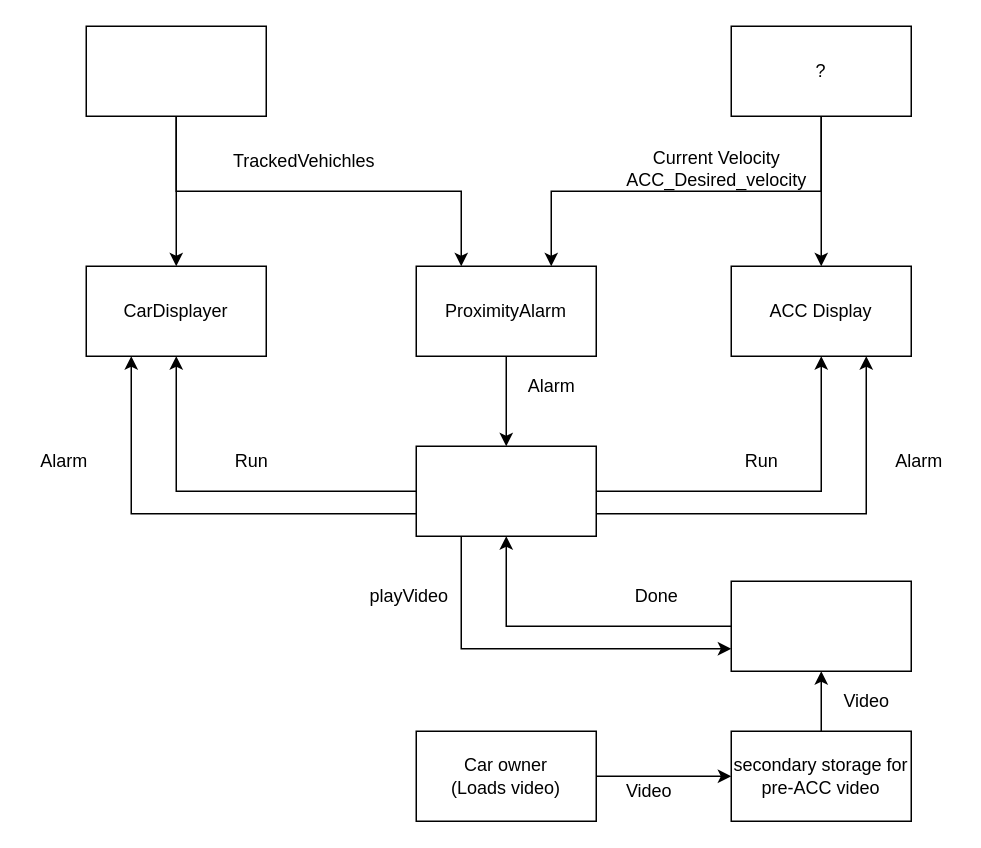
This 981x848 diagram has some shape labels left out. The centre of each missing label's shape, as x and y in pixels:
HMI Ctl: the point at 505,490
ROS: the point at 175,70
VideoPlayer: the point at 820,625
